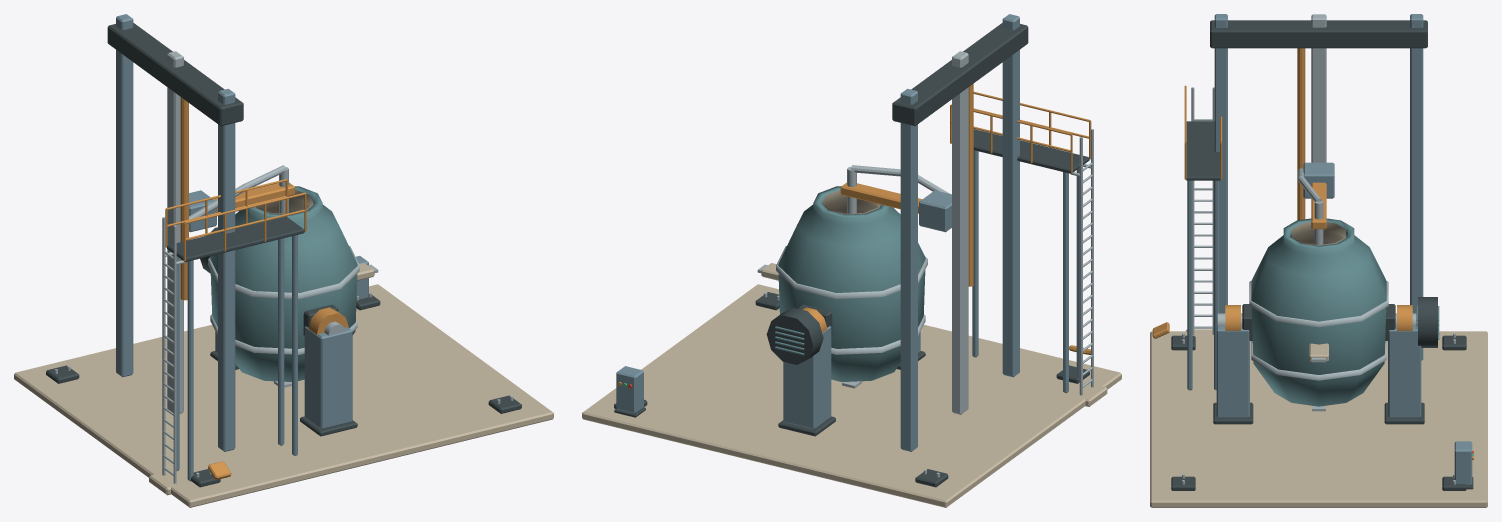
File: BOF-A-lod2.glb
The picture shows the model from 3 angles, left to right: view 1: azimuth 30°, elevation 25°; view 2: azimuth 150°, elevation 25°; view 3: azimuth 270°, elevation 25°; orthographic projection. The views are drawn at different scales.
Parts seen in each view (by area): view 1: foundation, refractory_vessel, lance_tower_-2.2, lance_tower_2.2, far_pedestal, lance_crosshead, lance_linear_guide, lance_service_deck, lance_service_support_-1_1, oxygen_supply_trunk, lance_service_support_1_-1, lance_service_support_1_1 (+8 smaller); view 2: foundation, refractory_vessel, lance_tower_-2.2, lance_tower_2.2, lance_linear_guide, lance_crosshead, near_pedestal, tilt_gearbox, lance_service_deck, lance_service_support_-1_-1, lance_service_support_1_1, oxygen_supply_trunk (+8 smaller); view 3: foundation, refractory_vessel, lance_crosshead, lance_tower_-2.2, far_pedestal, near_pedestal, lance_tower_2.2, lance_linear_guide, lance_service_deck, oxygen_supply_trunk, lance_service_support_1_1, vessel_hoop_0.65 (+13 smaller).
Part boxes in pixels (x1,y1,x2,y2): foundation: (14, 284, 553, 507); refractory_vessel: (210, 186, 357, 381); lance_tower_-2.2: (116, 14, 133, 377); lance_tower_2.2: (218, 88, 235, 451); far_pedestal: (304, 326, 352, 429); lance_crosshead: (107, 23, 243, 126); lance_linear_guide: (167, 51, 183, 413); lance_service_deck: (167, 216, 304, 261); lance_service_support_-1_1: (187, 260, 193, 481); oxygen_supply_trunk: (180, 97, 188, 300); lance_service_support_1_-1: (278, 238, 284, 445); lance_service_support_1_1: (292, 235, 297, 455); foundation: (582, 284, 1121, 507); refractory_vessel: (778, 186, 925, 381); lance_tower_-2.2: (900, 88, 917, 451); lance_tower_2.2: (1002, 14, 1019, 377); lance_linear_guide: (952, 51, 968, 414); lance_crosshead: (892, 23, 1028, 126); near_pedestal: (783, 326, 831, 429); tilt_gearbox: (766, 307, 823, 364); lance_service_deck: (973, 129, 1089, 173); lance_service_support_-1_-1: (1063, 172, 1068, 393); lance_service_support_1_1: (972, 150, 978, 357); oxygen_supply_trunk: (968, 84, 973, 286); foundation: (1150, 331, 1487, 507); refractory_vessel: (1251, 218, 1386, 406); lance_crosshead: (1210, 20, 1427, 48); lance_tower_-2.2: (1410, 14, 1423, 360); far_pedestal: (1216, 316, 1249, 417); near_pedestal: (1388, 326, 1421, 417); lance_tower_2.2: (1214, 14, 1227, 313); lance_linear_guide: (1311, 14, 1326, 162); lance_service_deck: (1186, 121, 1220, 180); oxygen_supply_trunk: (1297, 48, 1305, 220); lance_service_support_1_1: (1187, 180, 1192, 390); vessel_hoop_0.65: (1249, 281, 1388, 327).
Size of the model in its own units: 9.2 by 8.87 by 7.6.
